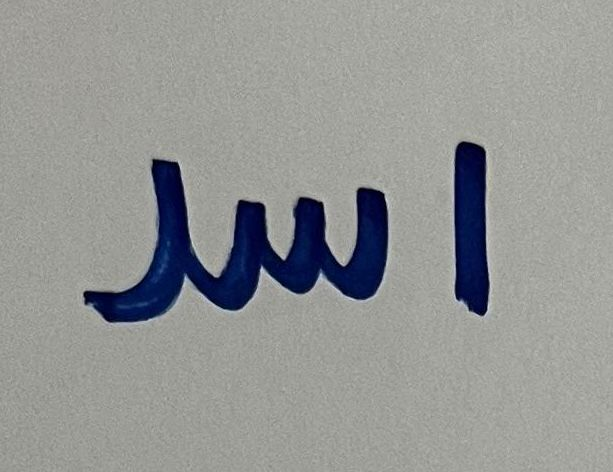alef: (428, 96, 544, 348)
dal: (50, 112, 200, 352)
seen: (206, 157, 413, 366)
